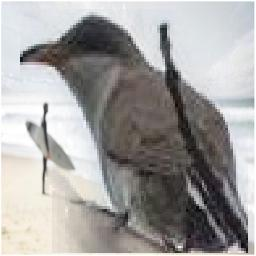Cuckoo: (20, 9, 248, 253)
